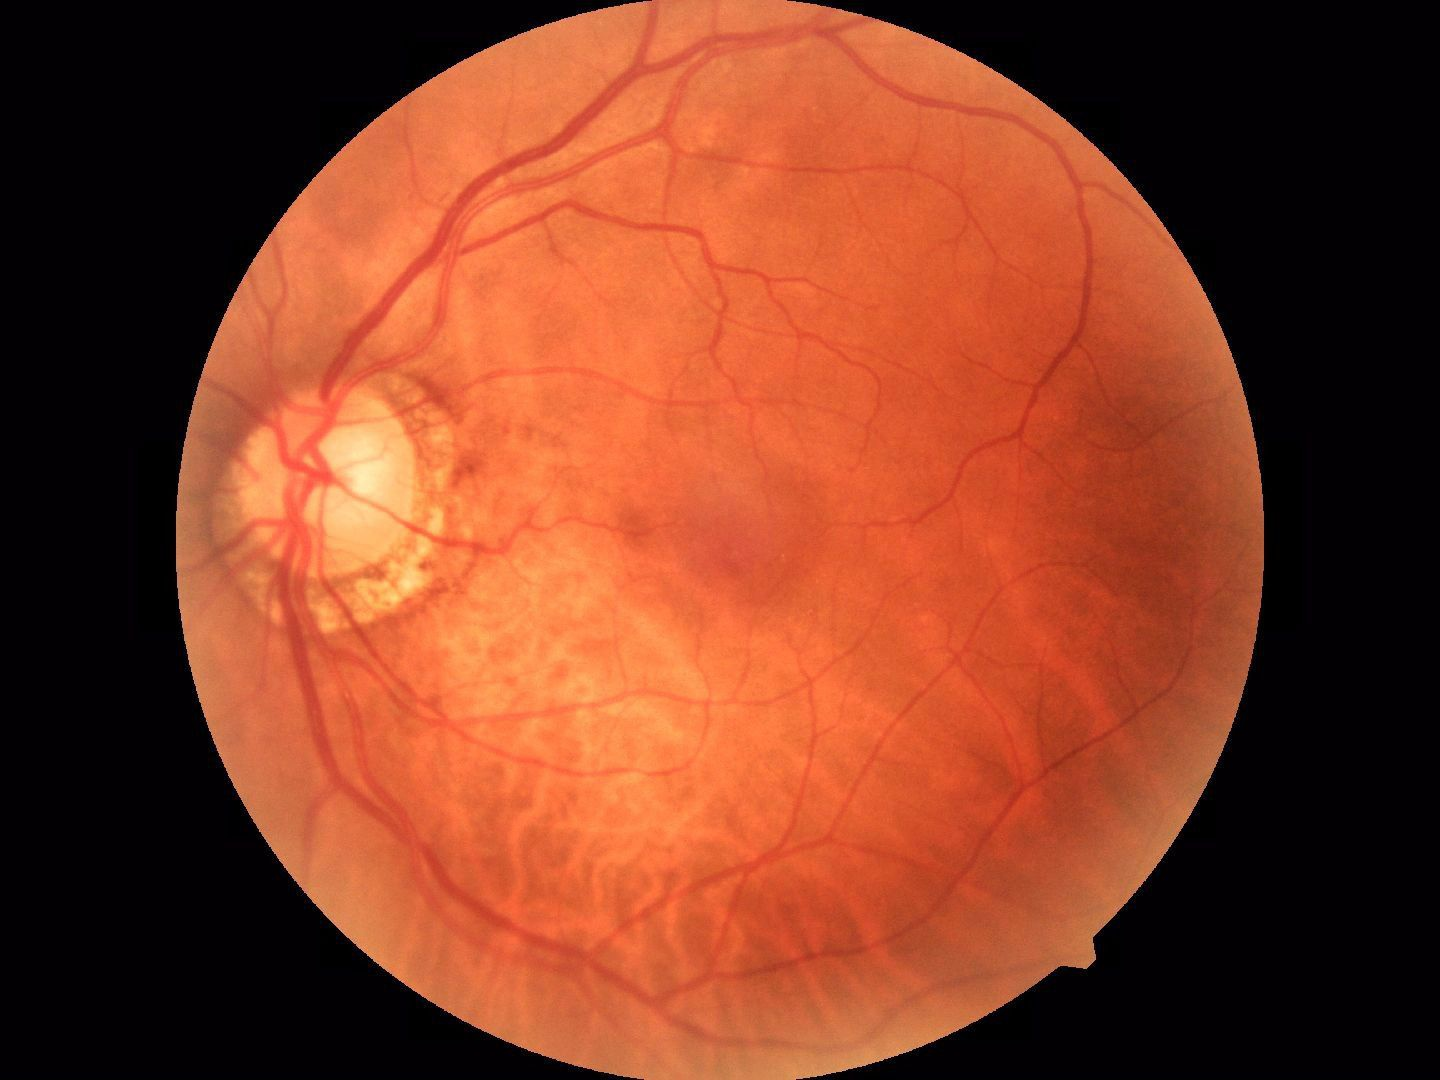Arterioles: (662, 681, 996, 901), (662, 225, 905, 436)
Hemorrhages: (681, 470, 853, 601)
Optic-Disc: (219, 381, 440, 631)
Venules: (280, 653, 408, 836), (381, 149, 471, 369)
